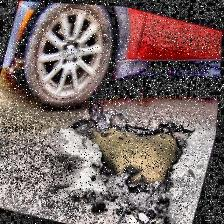pothole: (71, 103, 195, 205)
